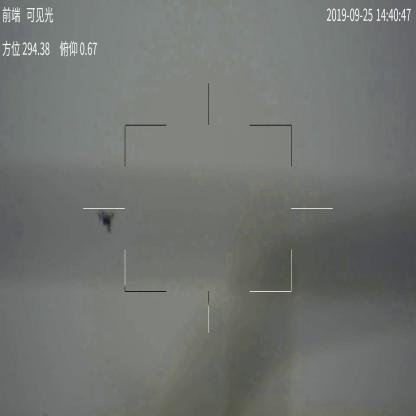uav: (98, 204, 119, 232)
